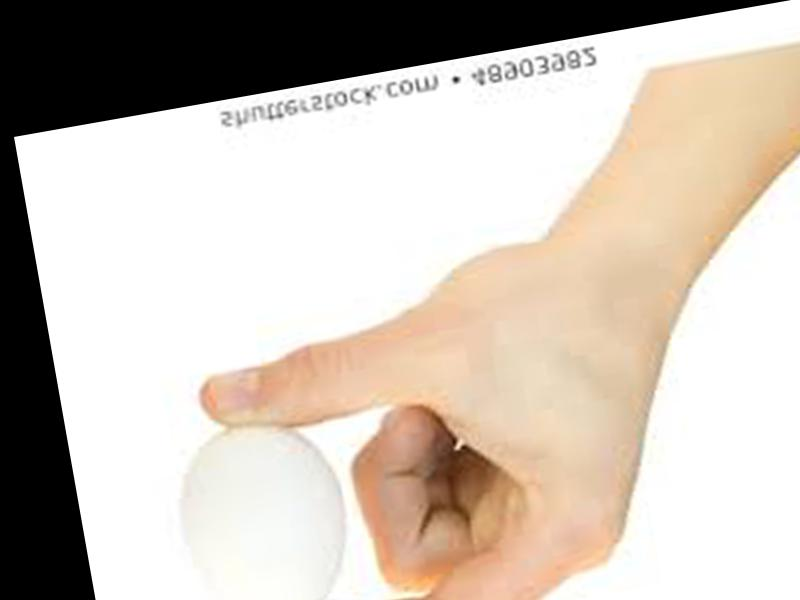Eggs: (170, 408, 364, 600)
